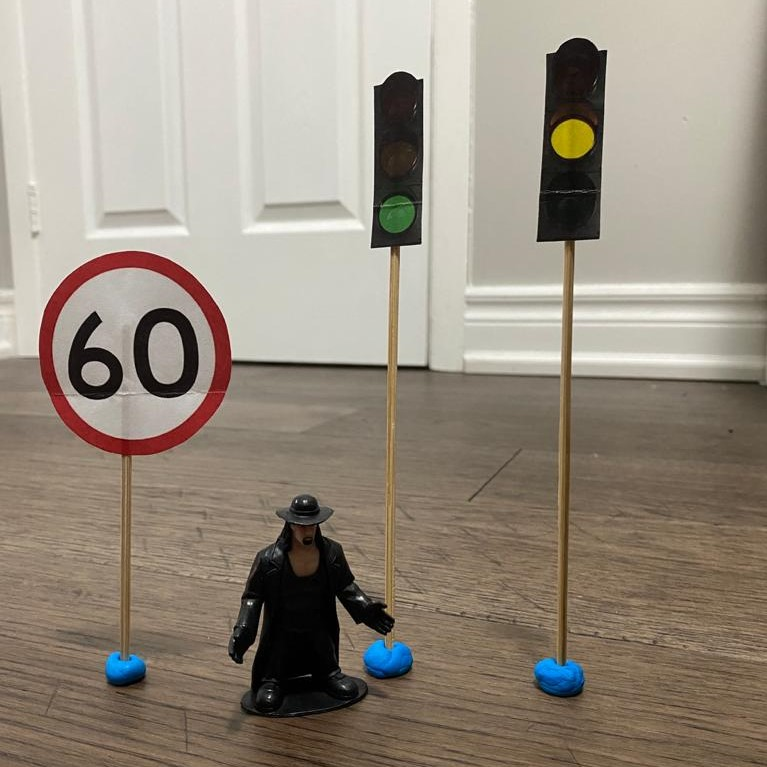Green Traffic Light: (365, 71, 429, 252)
Speed Limit 60: (37, 248, 235, 462)
